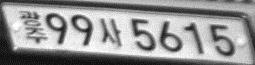1: (183, 21, 207, 53)
5: (131, 18, 156, 51), (210, 24, 235, 56)
6: (159, 20, 182, 51)
9: (70, 13, 93, 45), (47, 12, 68, 45)
광주_V: (18, 9, 46, 43)
사: (99, 17, 124, 46)
